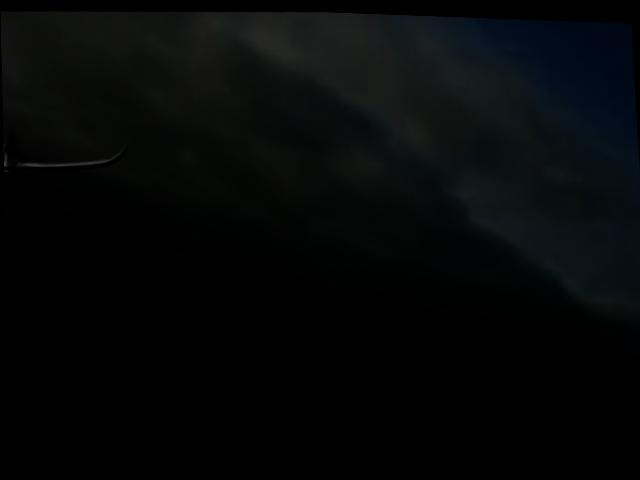iha: (2, 104, 134, 197)
